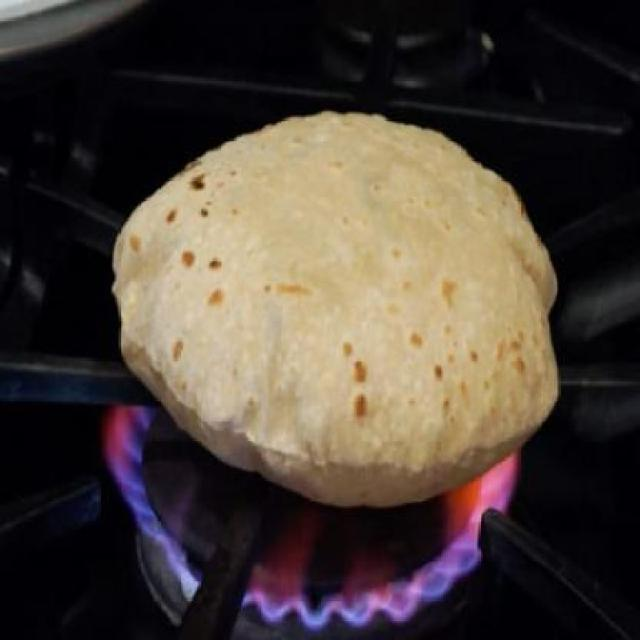chapati: (112, 112, 560, 510)
